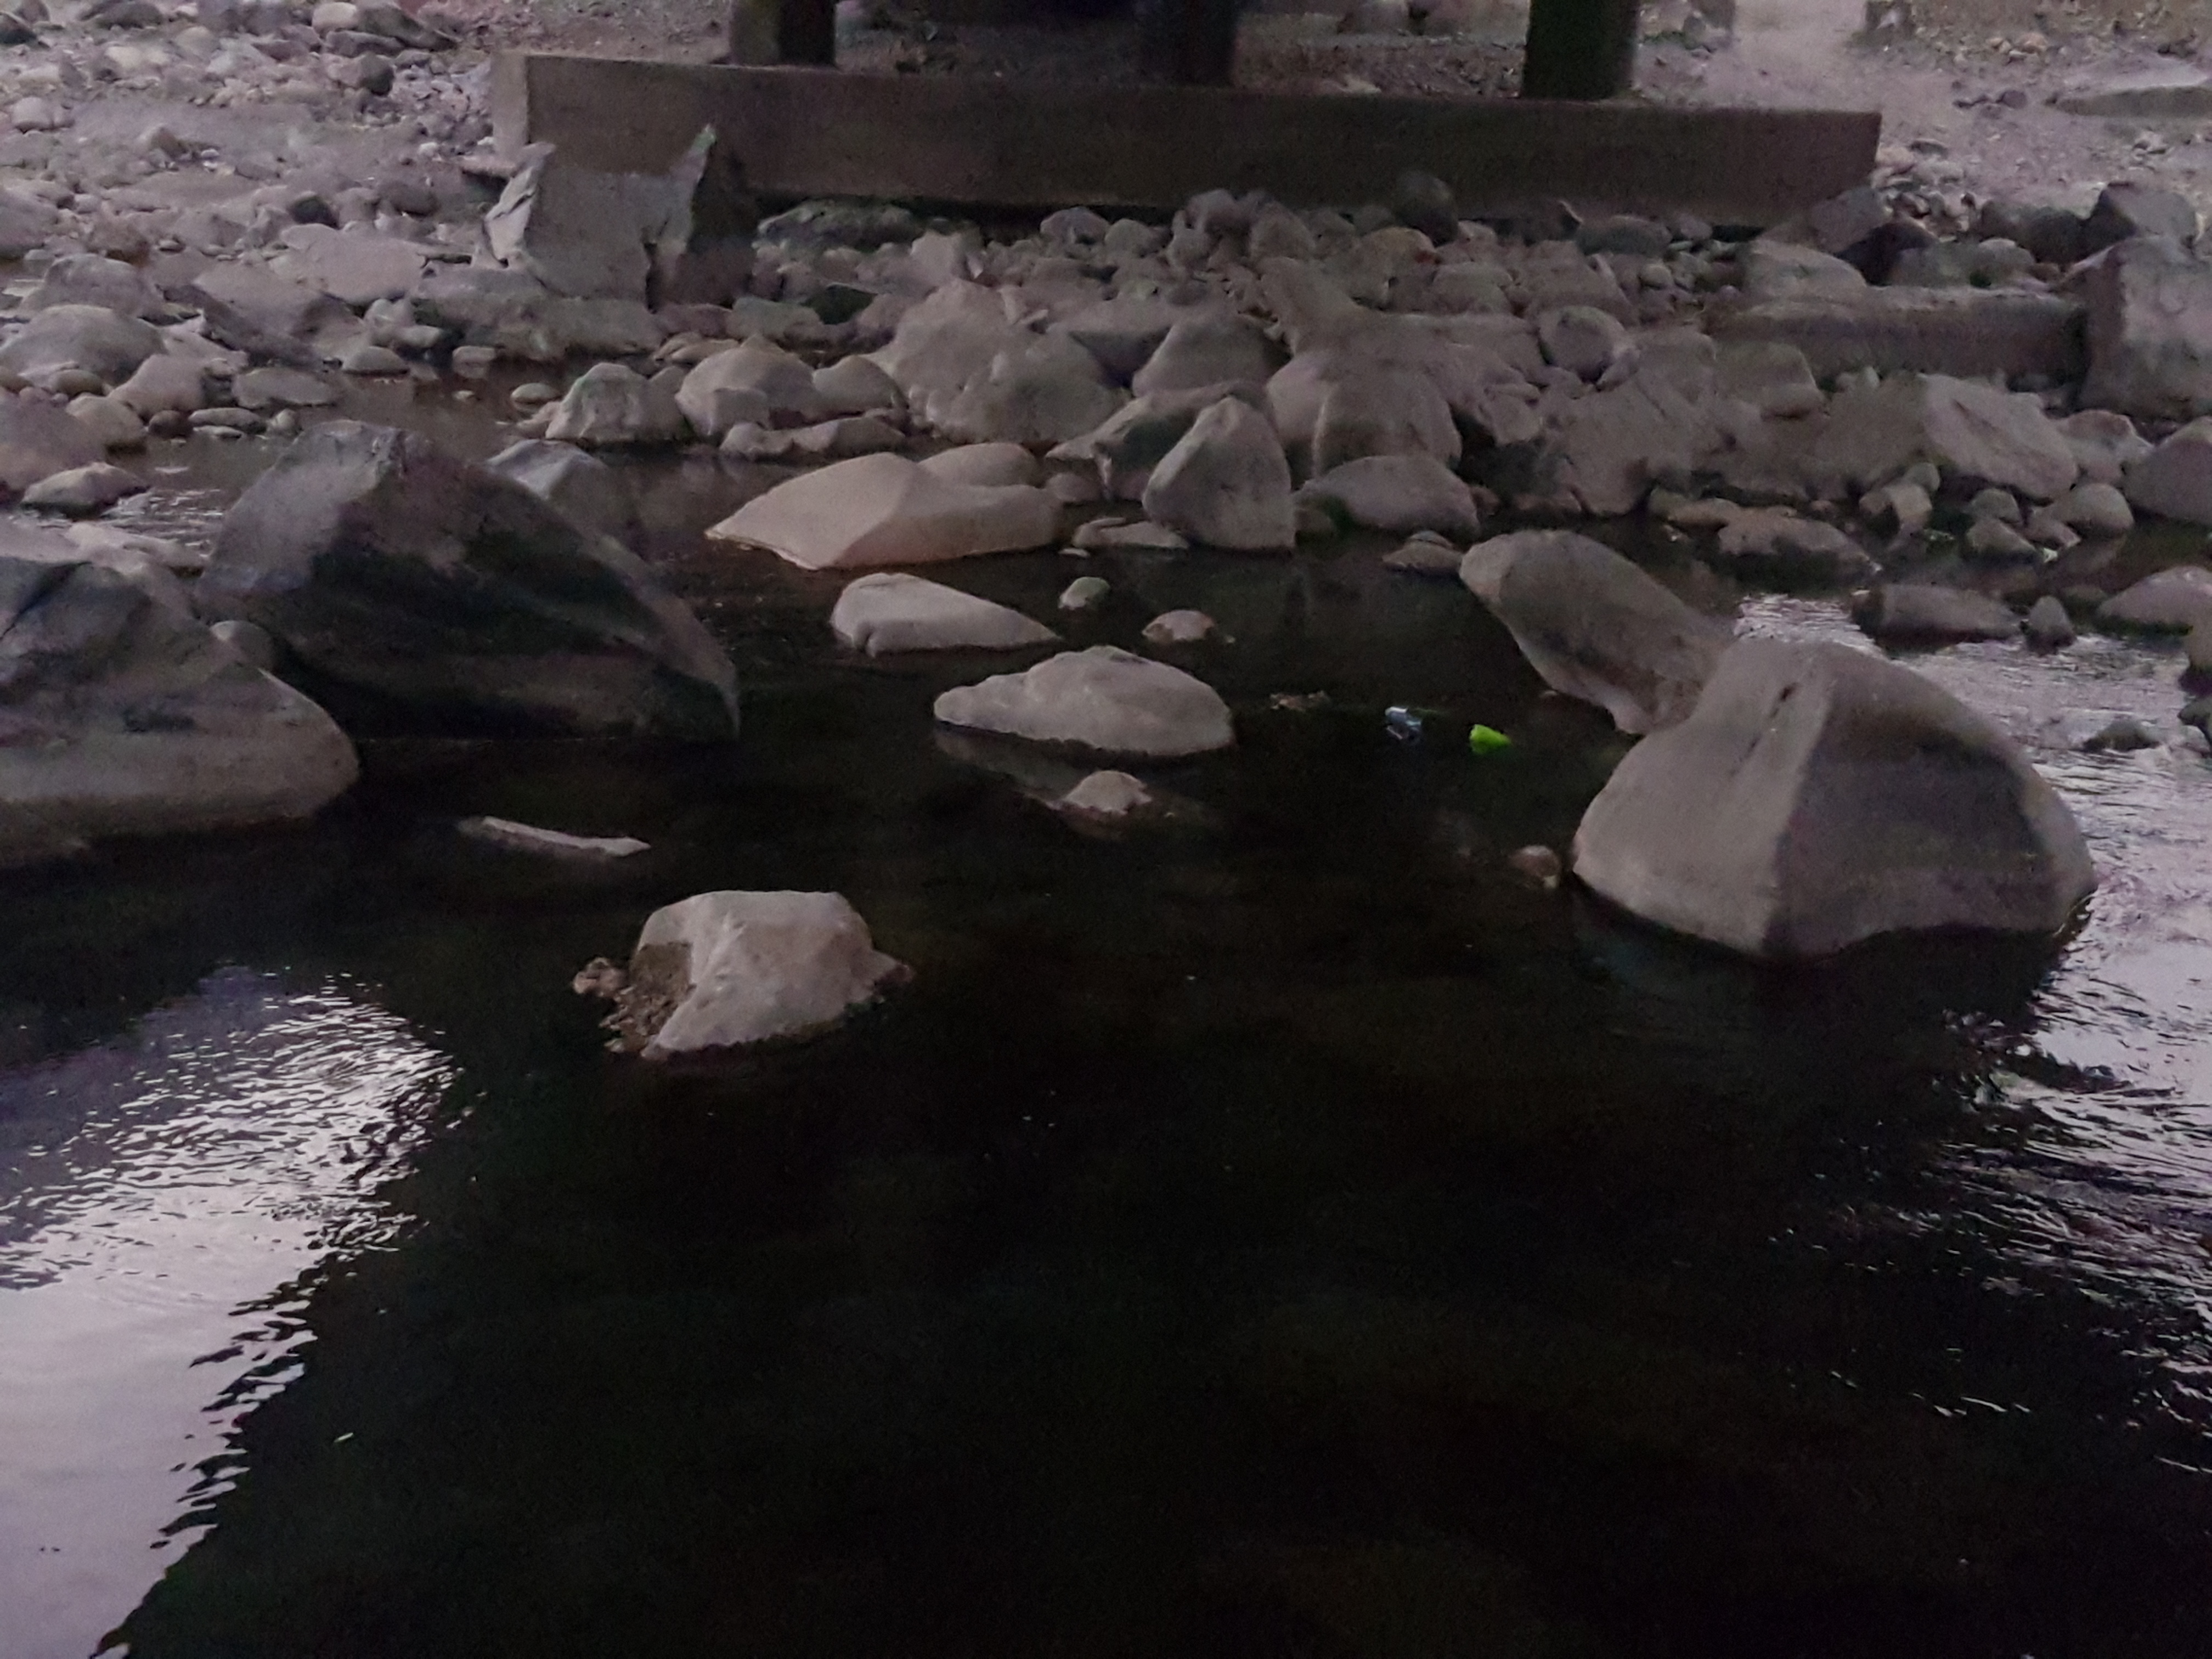Plastic Bottle: (1468, 723, 1510, 744), (1385, 706, 1421, 727)
